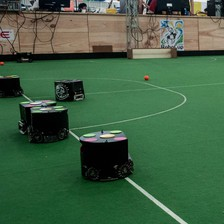ball: (142, 73, 150, 81), (1, 59, 5, 65)
goal: (123, 45, 178, 59)
robot: (75, 126, 136, 183), (26, 101, 71, 145), (52, 77, 86, 103), (1, 71, 25, 99), (16, 99, 30, 136)
